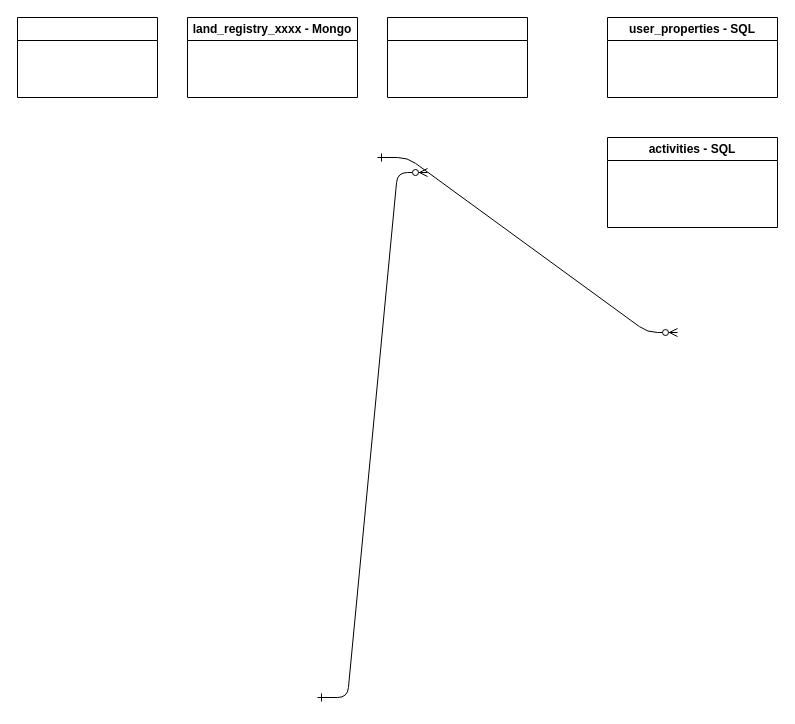
The diagram is 795 pixels wide and 724 high, and some of its shapes have lost their labels. The shapes that lost their labels are listed below. From the top down, each one's box as (x1, y1, x2, y2) in pixels, then its label:
(16, 16, 158, 98): assets_xxxx - Mongo
(386, 16, 528, 98): epc_data_xxxx - Mongo
